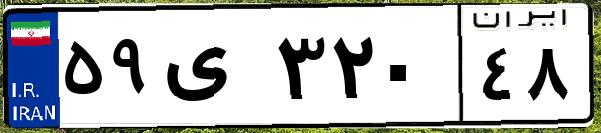0: (385, 28, 445, 110)
2: (330, 28, 385, 110)
3: (270, 28, 330, 110)
4: (475, 38, 525, 113)
5: (57, 26, 110, 100)
8: (525, 38, 570, 115)
9: (110, 28, 158, 98)
ی: (158, 20, 270, 120)
